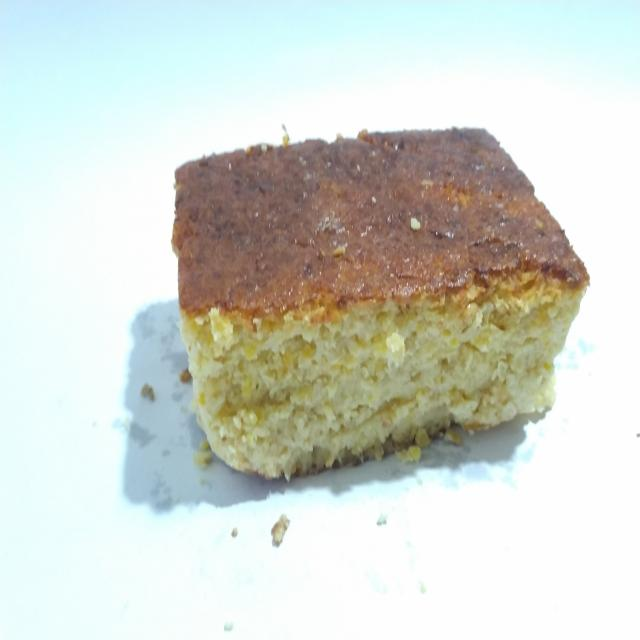Food: (149, 100, 598, 499)
